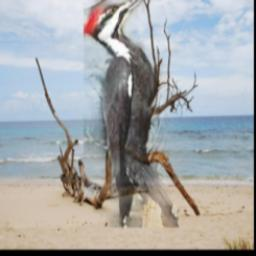Woodpecker: (83, 0, 178, 228)
